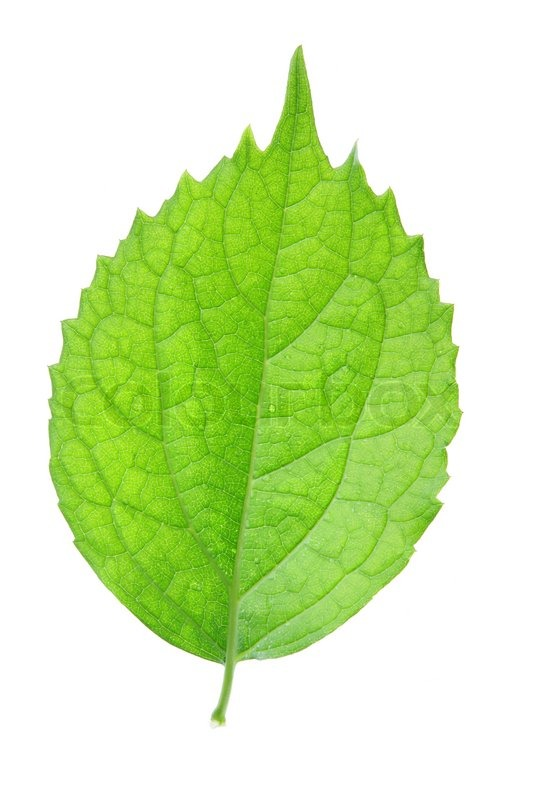healthy: (48, 50, 484, 728)
